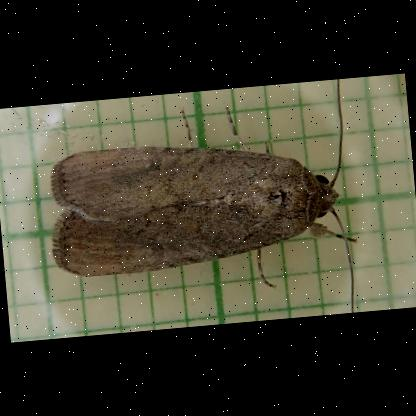Fall Armyworm Moth: (37, 78, 367, 339)
